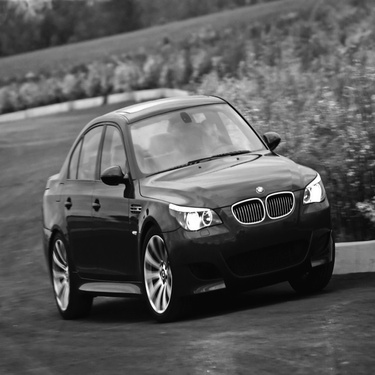car: (30, 88, 337, 328)
